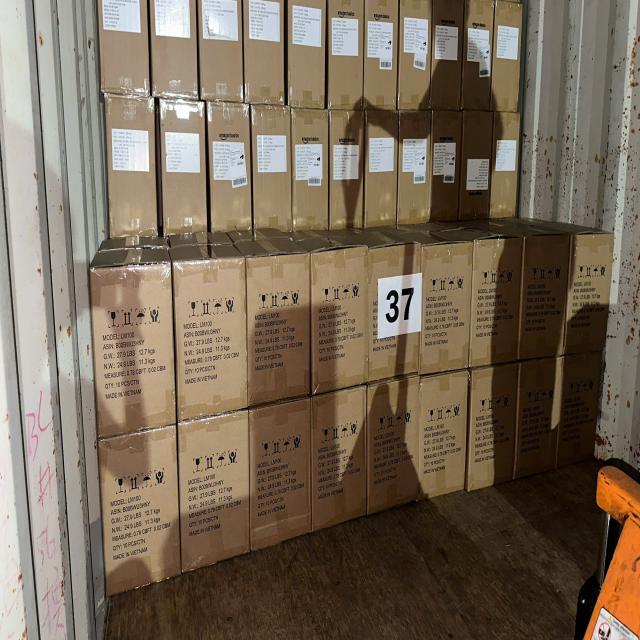Carton: (89, 262, 177, 434), (98, 429, 182, 582), (172, 257, 247, 412), (179, 422, 252, 564), (247, 256, 315, 399), (250, 405, 312, 546), (307, 244, 368, 383), (314, 396, 370, 526), (374, 240, 423, 376), (369, 380, 422, 504), (420, 242, 470, 370), (473, 236, 523, 362), (417, 374, 465, 492), (524, 234, 570, 356), (469, 366, 516, 484), (520, 361, 562, 473)
